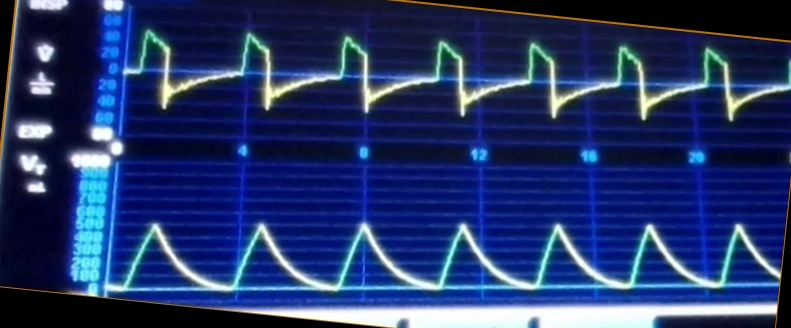Accumulation Flow: (133, 26, 742, 149)
Volume: (116, 192, 777, 298)
